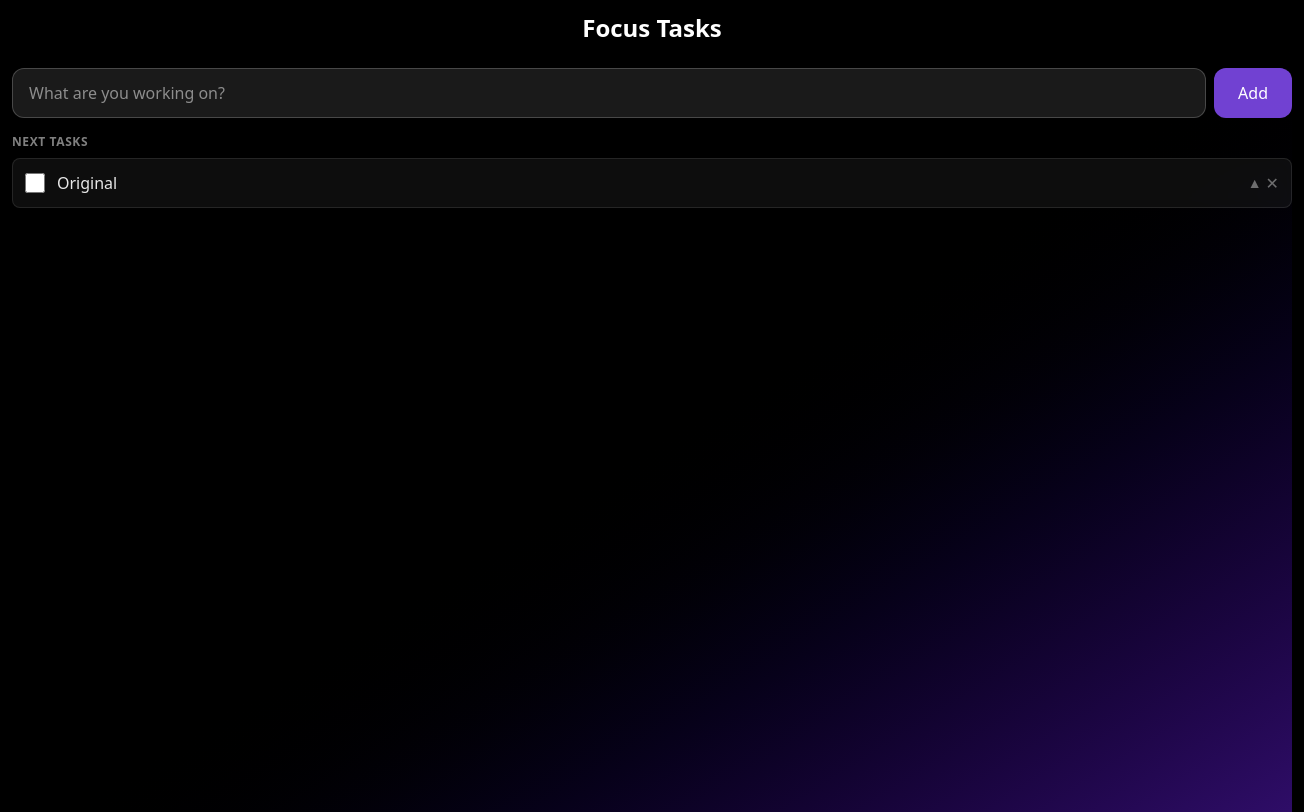
Test case: Phase 1 — useTodos data layer › 1.3 editTodo › cancels edit on Escape
Step 1. Double-click the text "Original" → (87, 183), box [57,172,117,194]
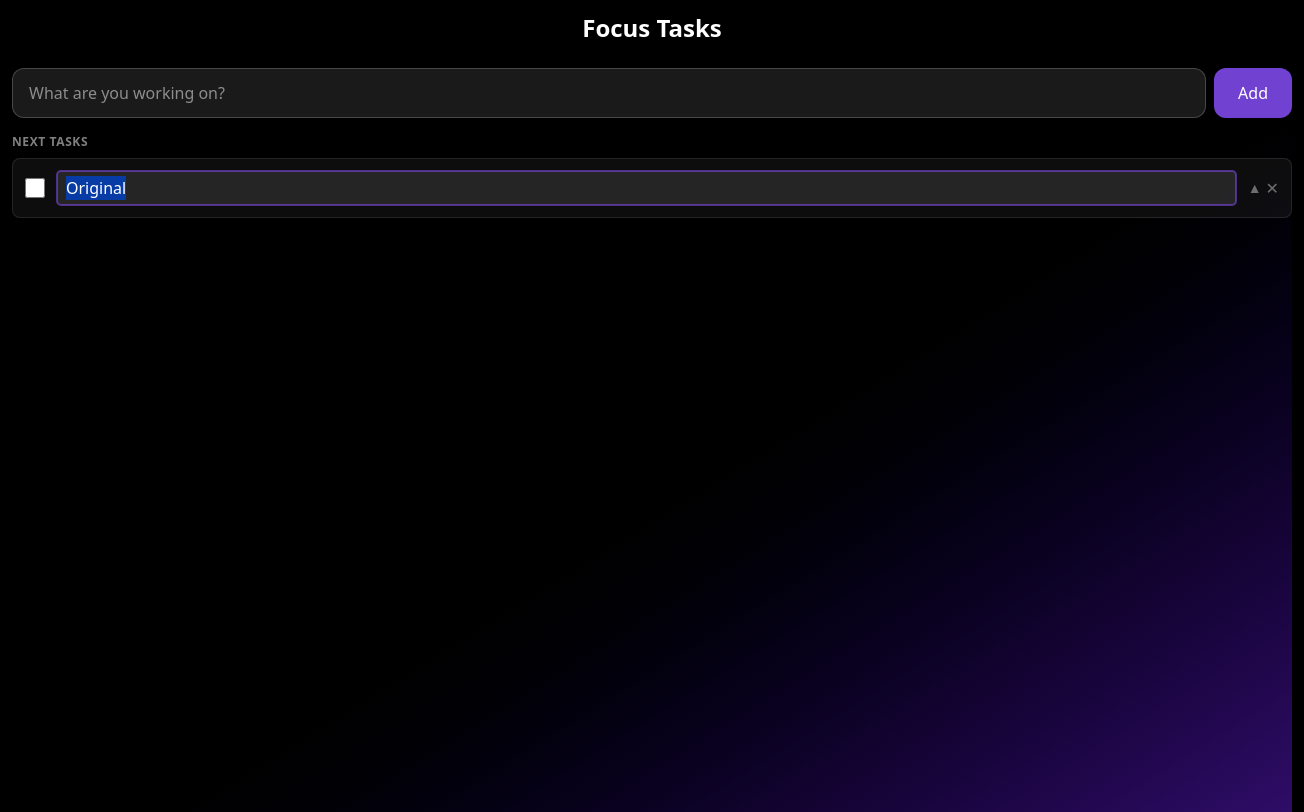
Step 2. Replace the text in the field showing "Original" with "Changed" → (646, 188), box [57,171,1236,205]
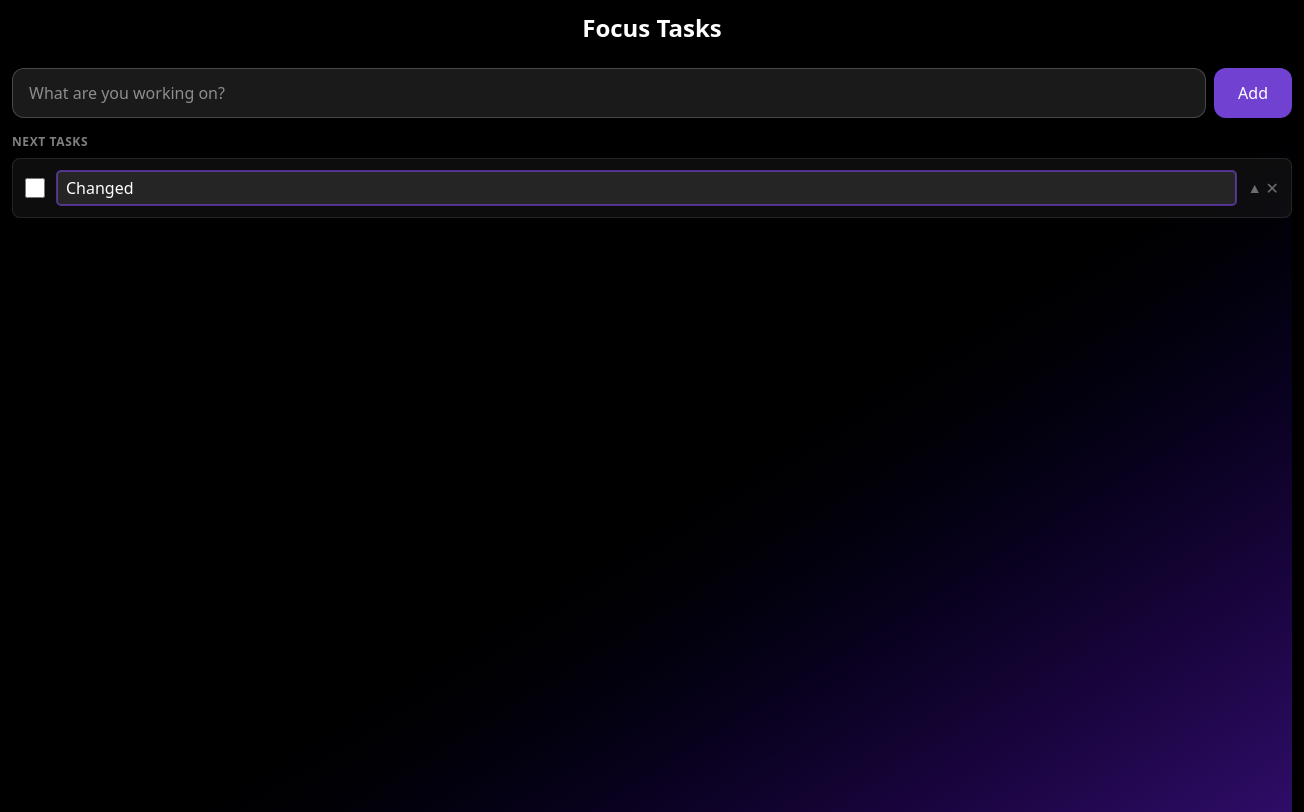
Step 3. Press Escape in the field showing "Original", box [57,171,1236,205]
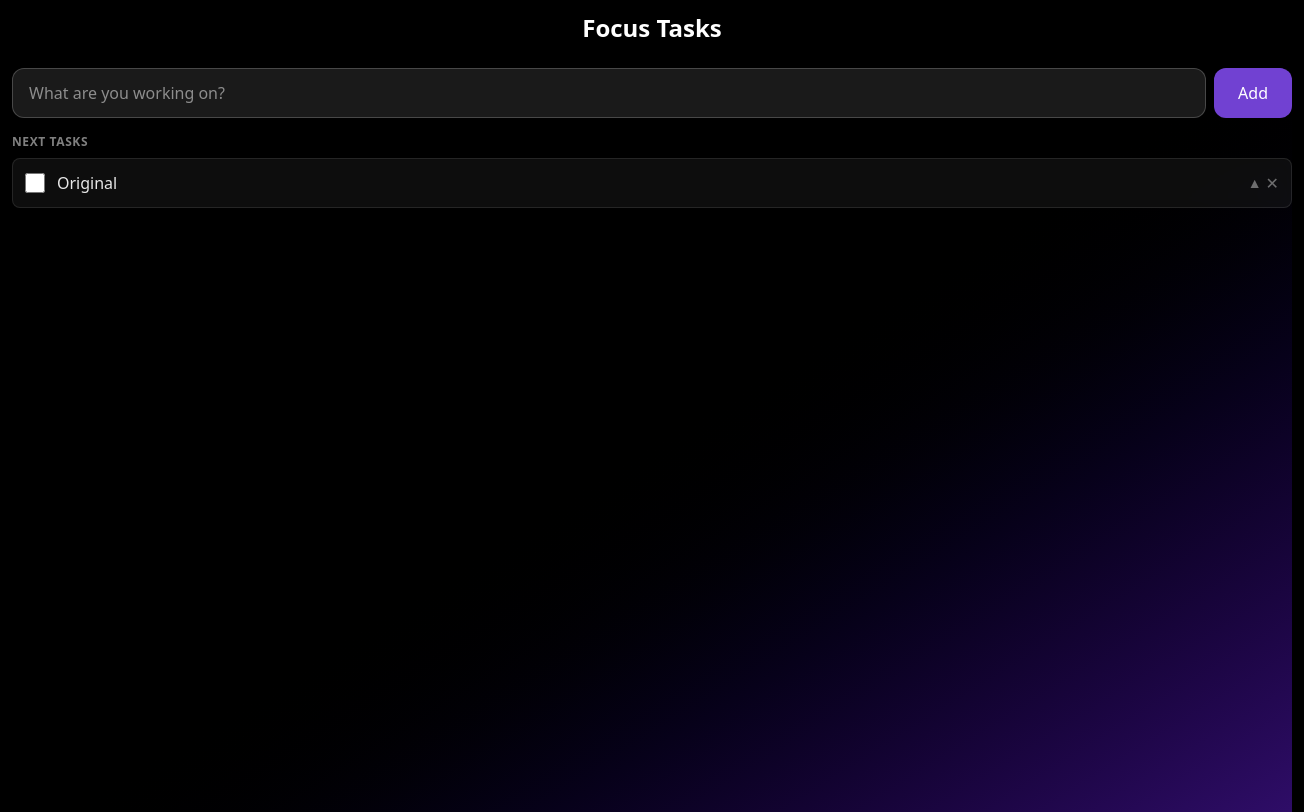
Check: the text "Original" is shown, box [57,172,117,194]
